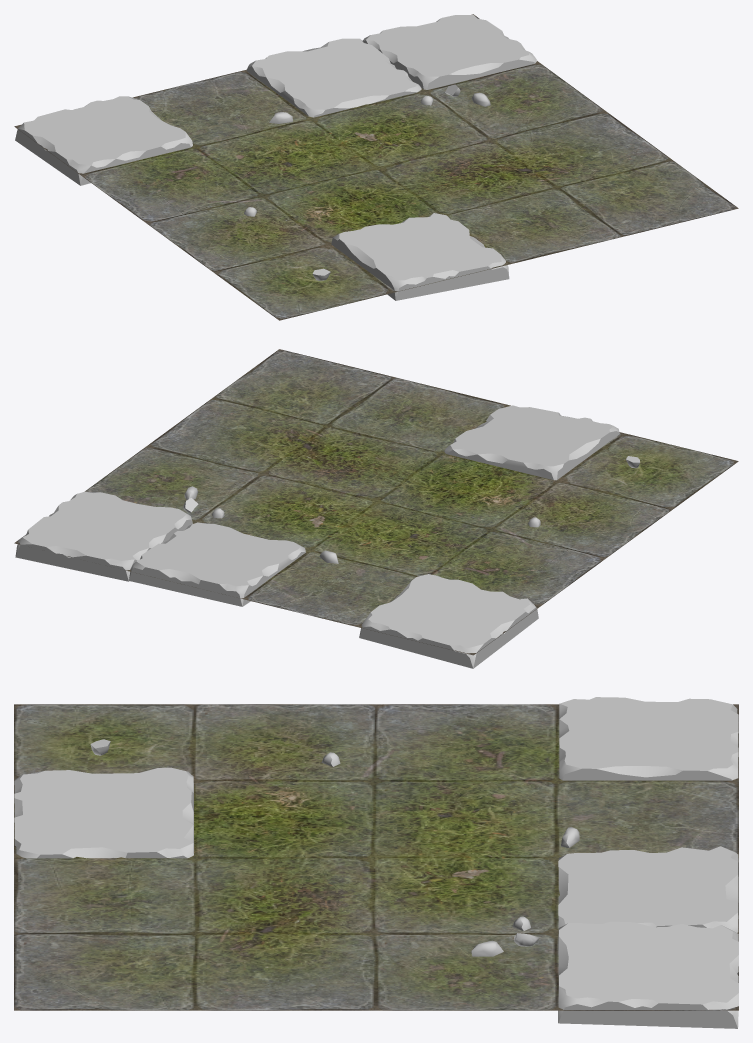
File: Floor_Lvl3_17.fbx
The picture shows the model from 3 angles, top to bottom: view 1: azimuth 30°, elevation 25°; view 2: azimuth 150°, elevation 25°; view 3: azimuth 270°, elevation 25°; orthographic projection. The views are drawn at different scales.
Parts seen in each view (by area): view 1: StoneFloor_Details.003; view 2: StoneFloor_Details.003; view 3: StoneFloor_Details.003.
Part boxes in pixels (x1=…): StoneFloor_Details.003: x1=14, y1=14, x2=738, y2=320; StoneFloor_Details.003: x1=14, y1=349, x2=738, y2=668; StoneFloor_Details.003: x1=14, y1=697, x2=738, y2=1028.
Bounding box in the file's own units: 382 × 20.6 × 382.
